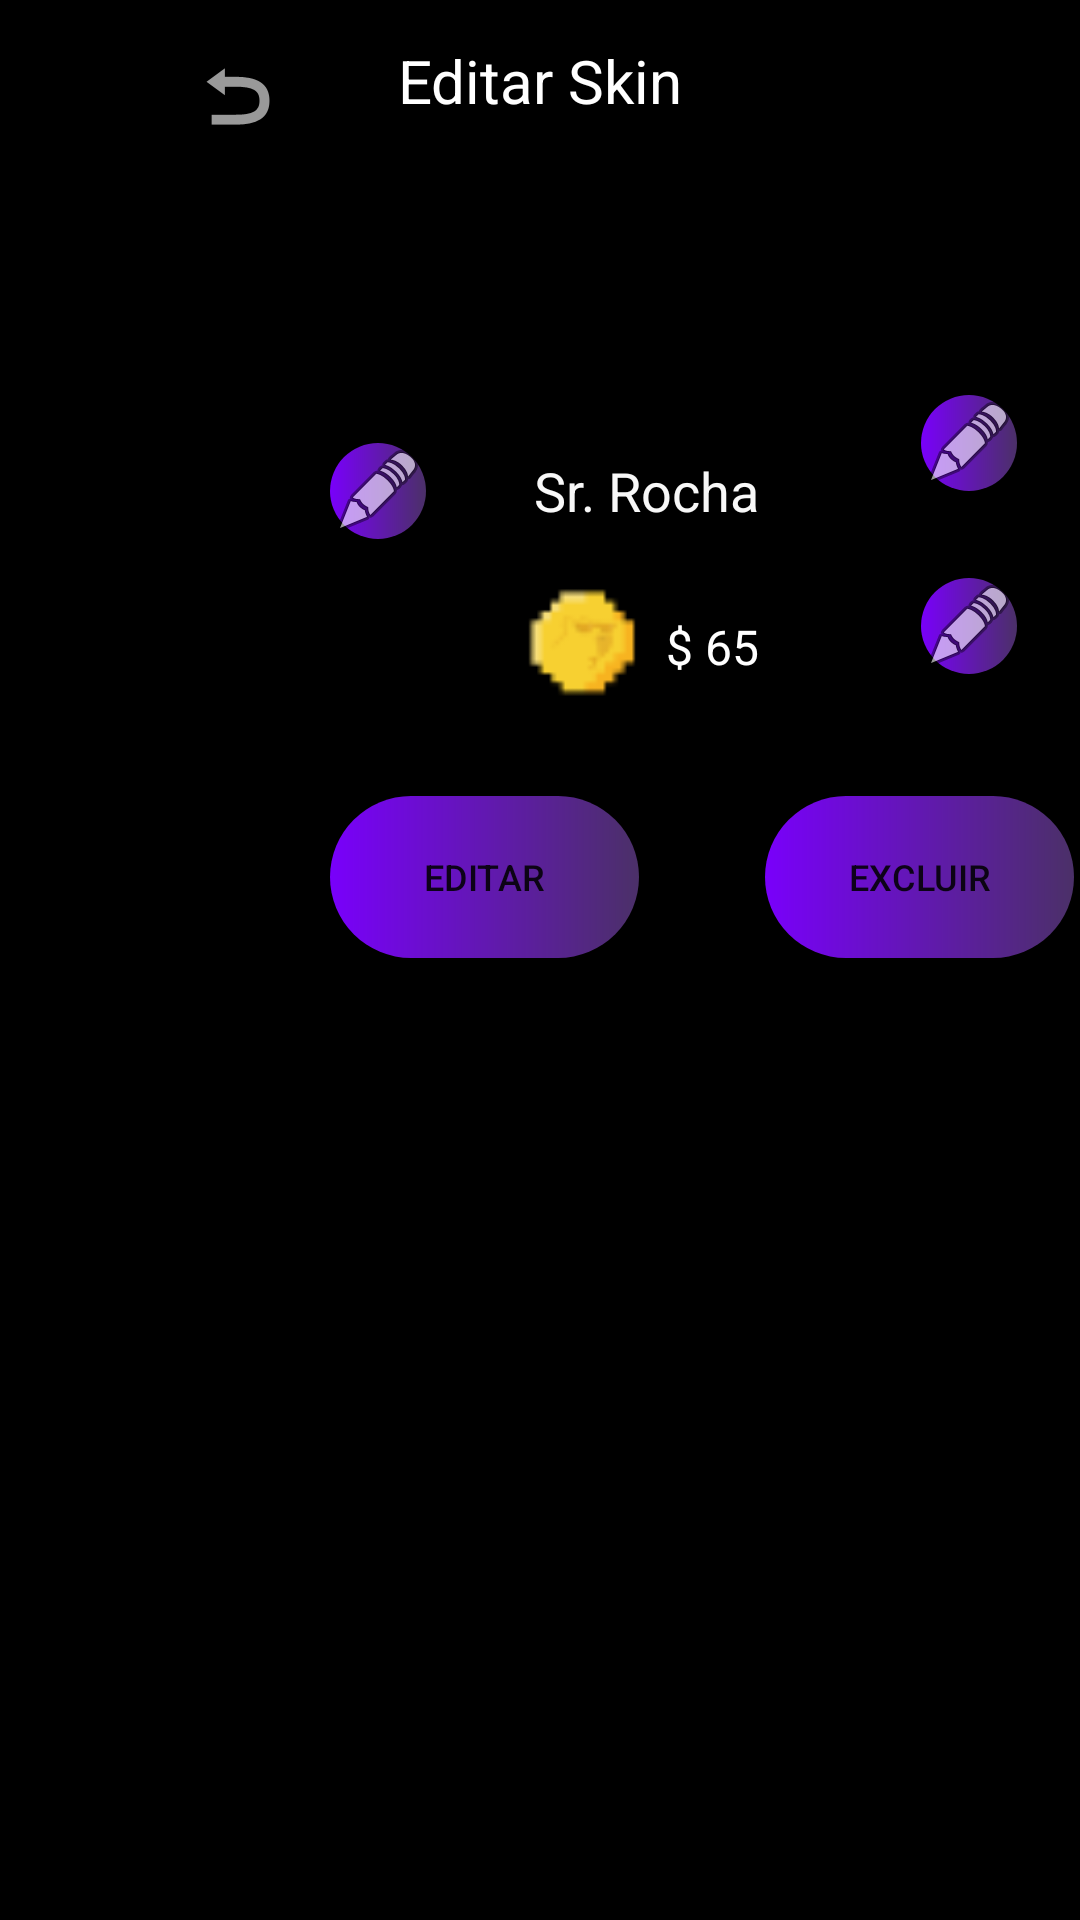

Point at icon controls on the screen. Image size 1080×1920, points as point (x, y).
edit: point (969, 443), point (378, 491), point (969, 626)
kapicoin: point (582, 642)
revert: point (238, 96)
